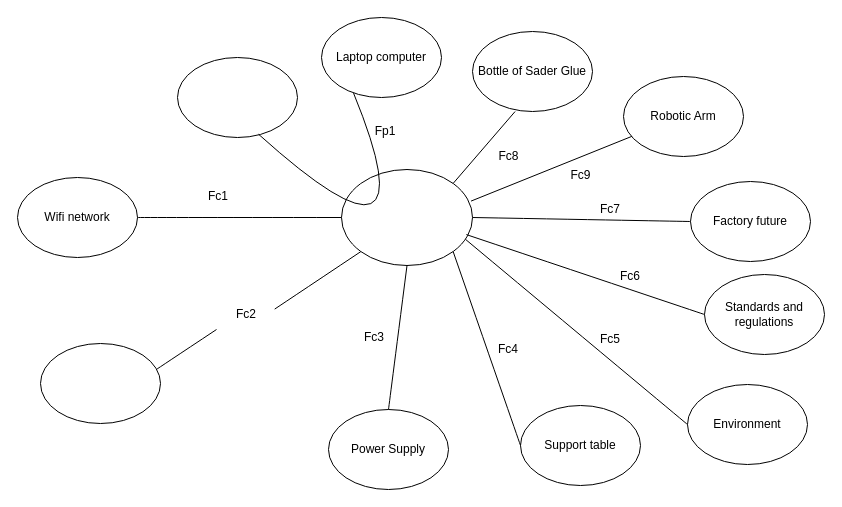
This 842x507 diagram has some shape labels left out. Each missing label, with the centre of its shape:
CR20 gluing machine: the point at 406,217
Phone cover: the point at 237,97
Surrounding env: the point at 100,383
